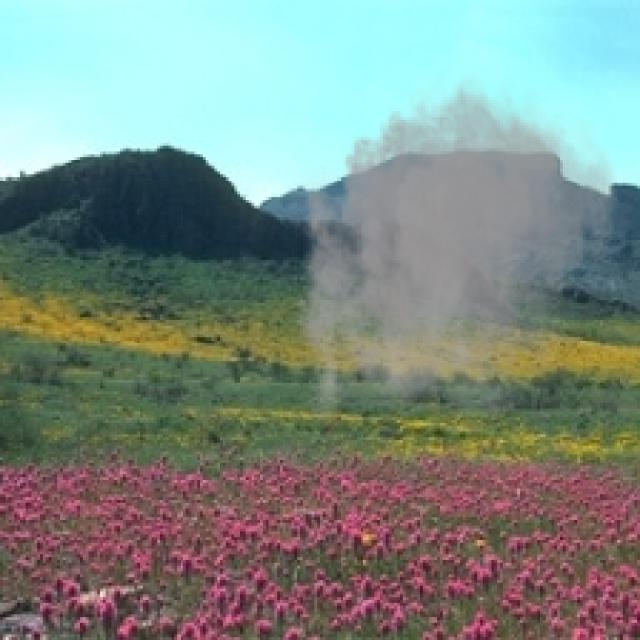smoke: (280, 66, 629, 437)
